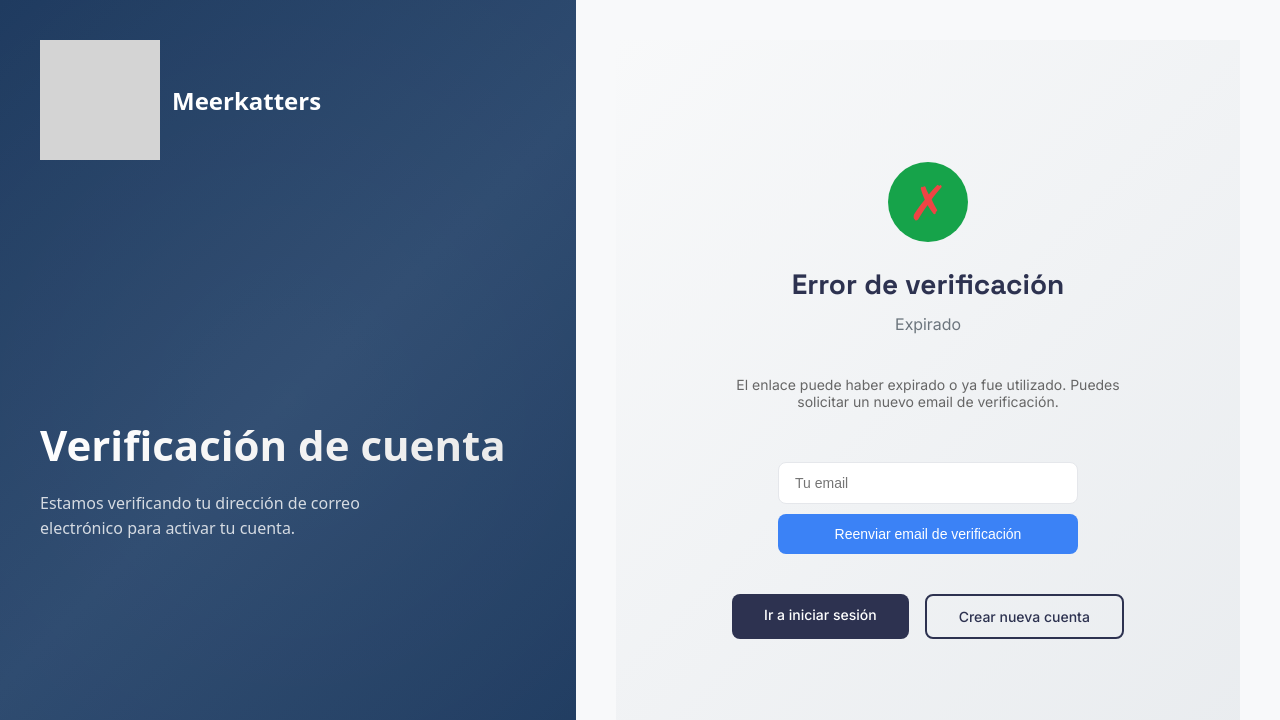
it: VerifyEmail › resend verification success
Type "user@test.com" into the field with placeholder "Tu email". click: [928, 482]
box: [778, 462, 1078, 504]
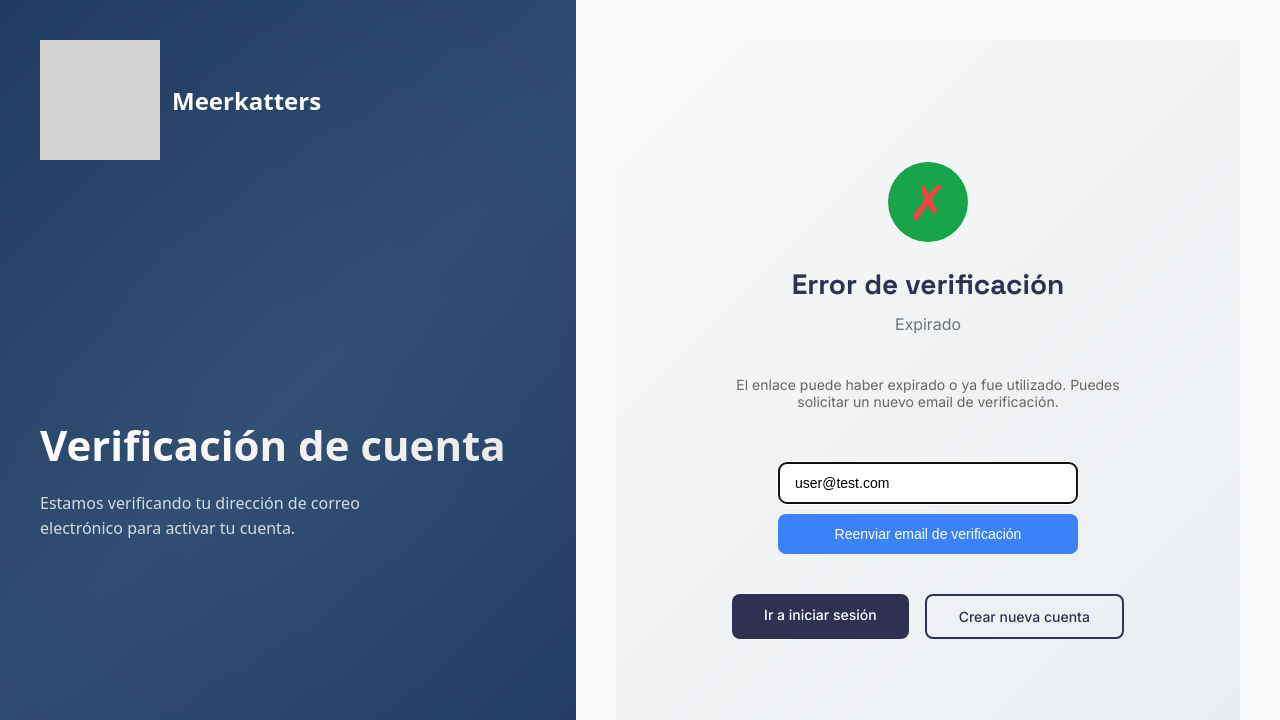
Click the button "Reenviar email de verificación". click: [928, 534]
box: [778, 514, 1078, 554]
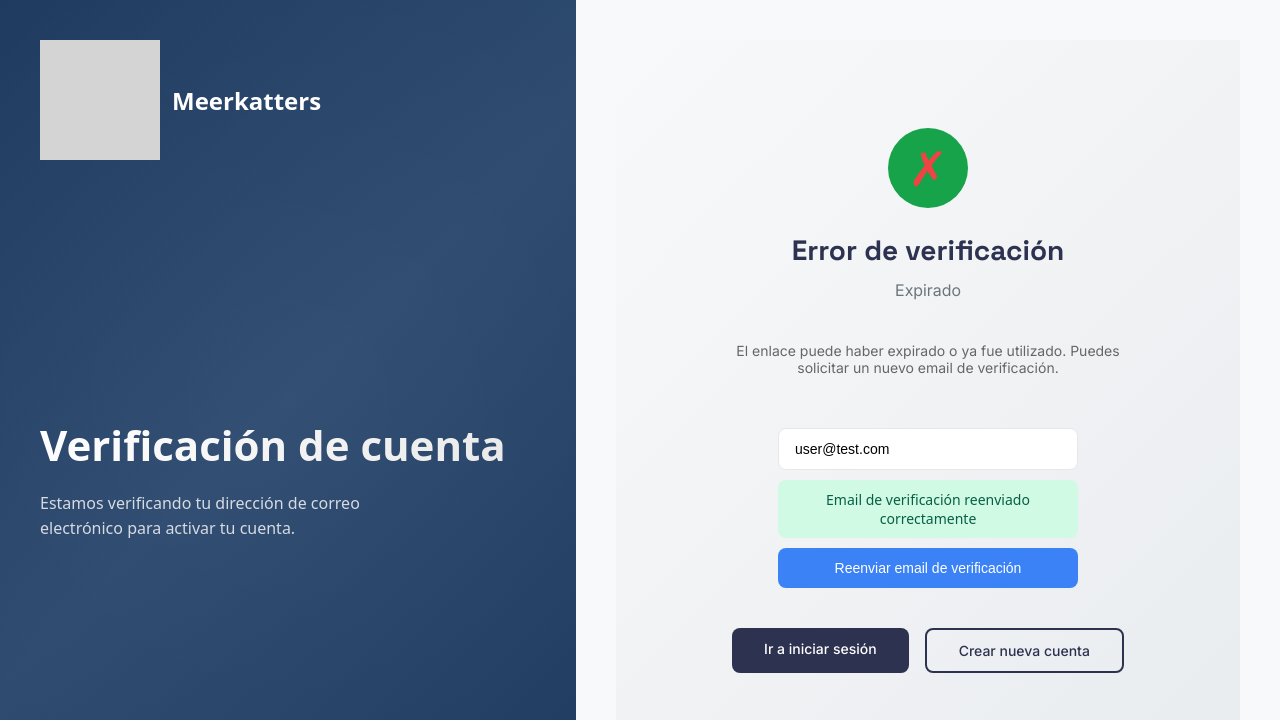
Now the text "Email de verificación reenviado correctamente" is shown, box [778, 480, 1078, 538]
